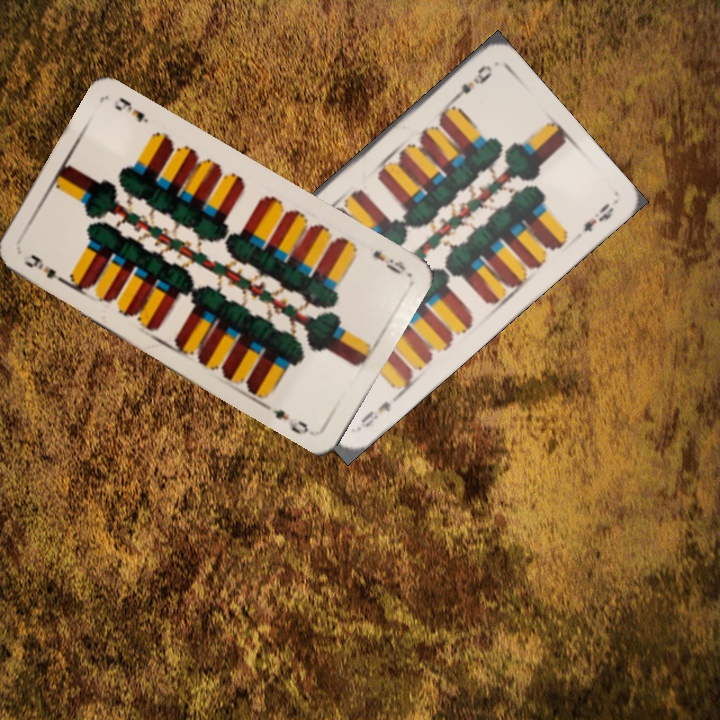E9: (446, 60, 495, 105), (20, 251, 70, 287), (356, 397, 394, 431), (368, 246, 409, 277)
